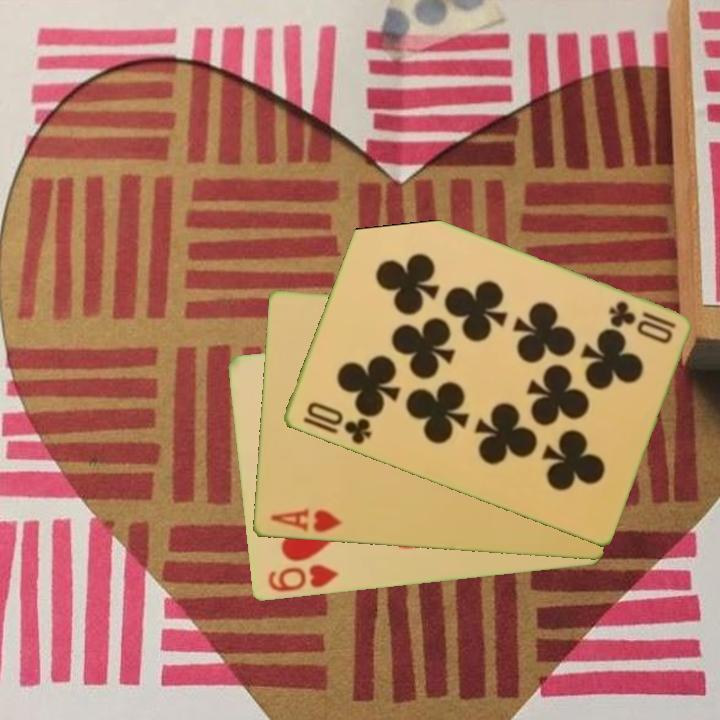10c: (604, 297, 678, 347), (302, 398, 374, 448)
6h: (264, 561, 341, 596)
Ah: (267, 505, 344, 536)
